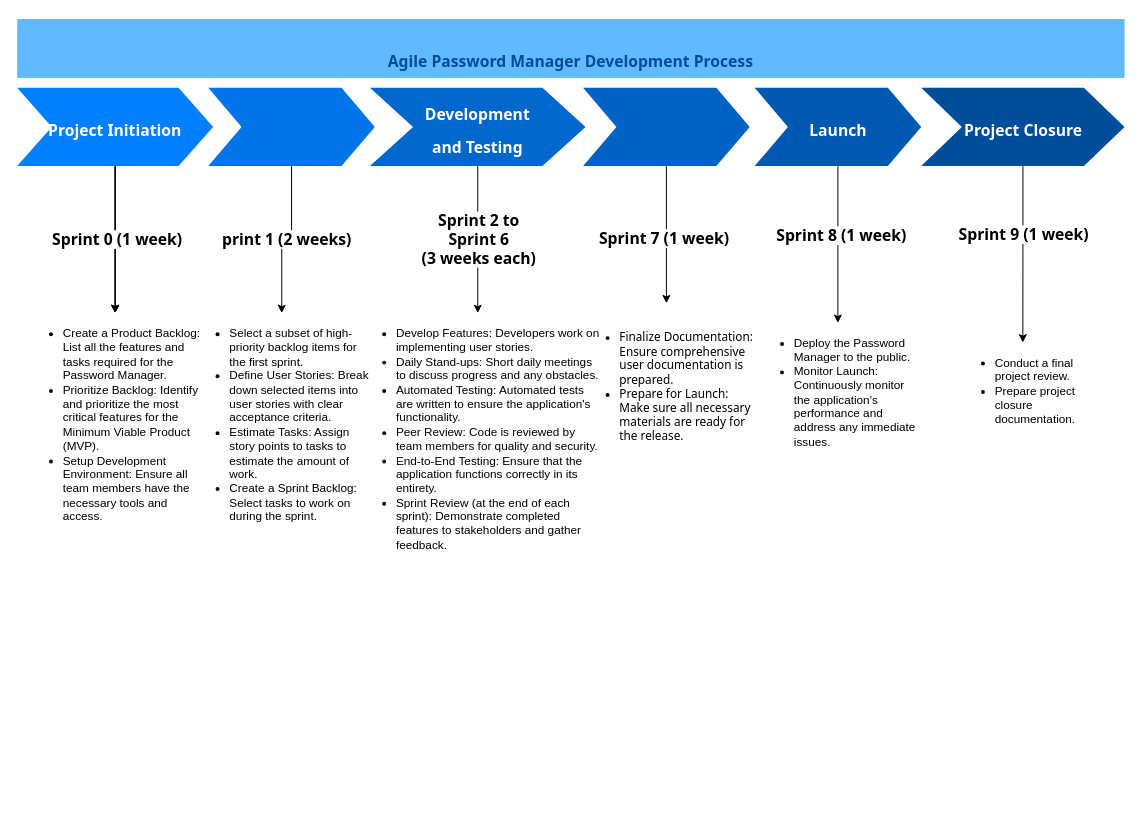
This 1141x820 diagram has some shape labels left out. Each missing label, with the centre of its shape:
"Release and Documentation" goes at point 666,126.
"Sprint Planning" goes at point 291,126.
